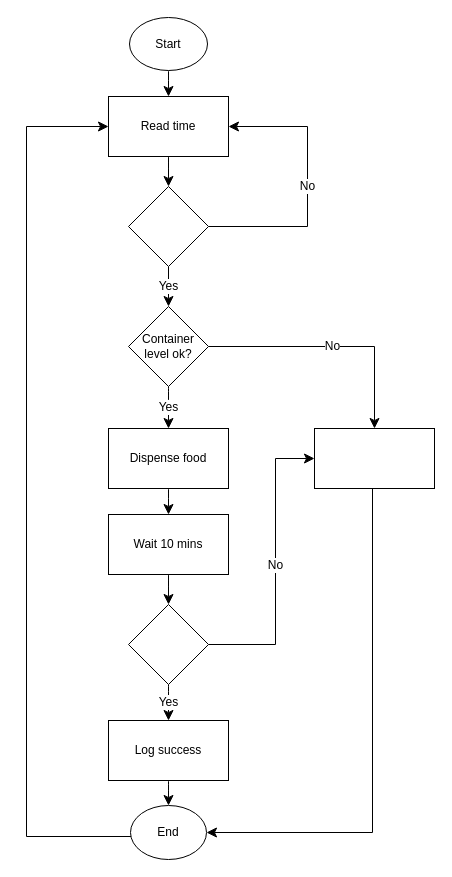
Image size: 452x877. Some labels were removed from this diagram. Each missing label, with the box of its shape:
Feeding time?: (128, 186, 208, 266)
Food eaten?: (128, 604, 208, 684)
Send alert: (314, 428, 434, 488)
